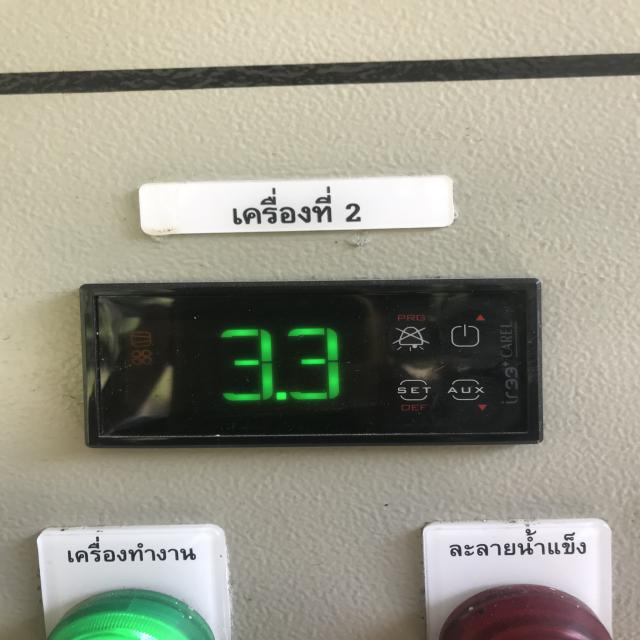display: (122, 319, 379, 412)
frame: (211, 325, 348, 406), (342, 200, 366, 225)
gauge: (78, 279, 542, 448)
